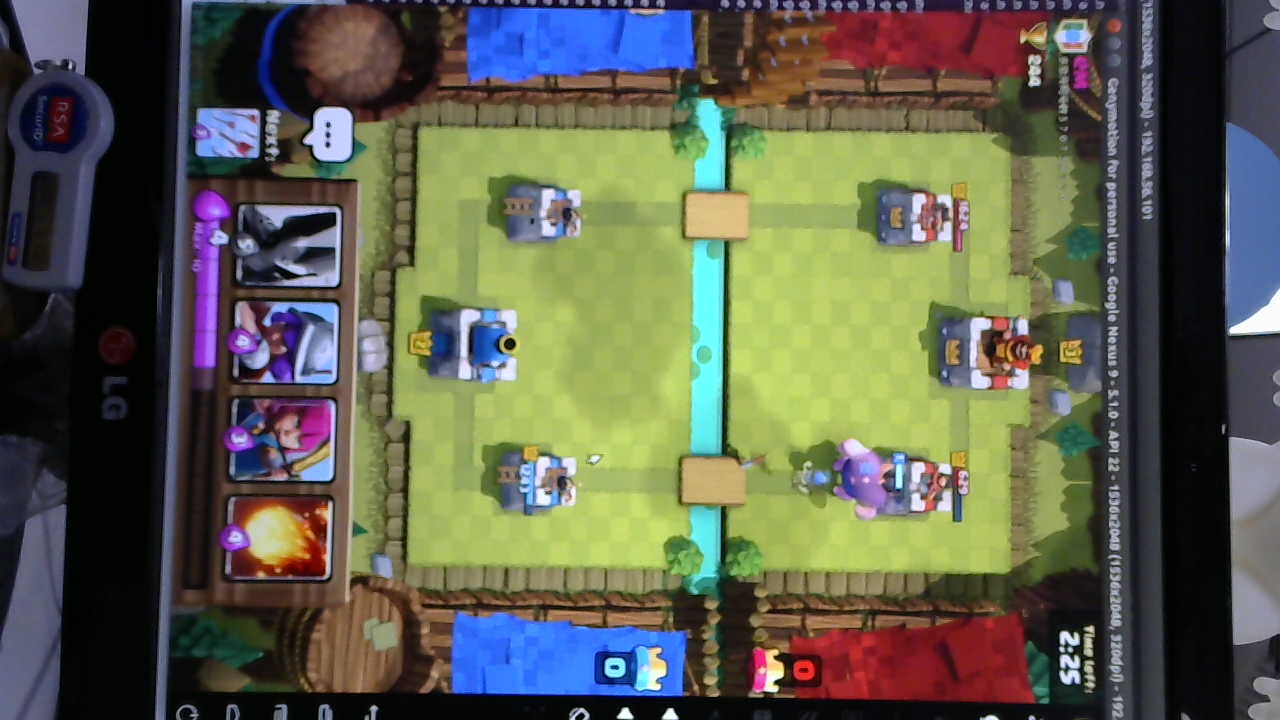arena: (502, 179, 584, 245), (502, 447, 578, 515)
bomb: (790, 455, 830, 499)
earena: (866, 185, 956, 250), (885, 459, 957, 520)
eking: (938, 310, 1036, 393)
giant: (841, 431, 892, 518)
king: (429, 302, 523, 386)
